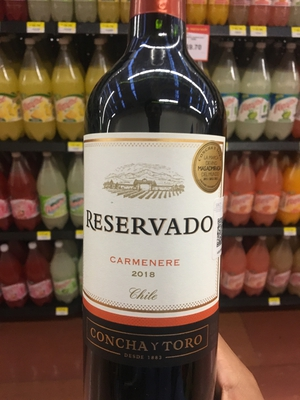reservado carmenere: (72, 17, 235, 400)
